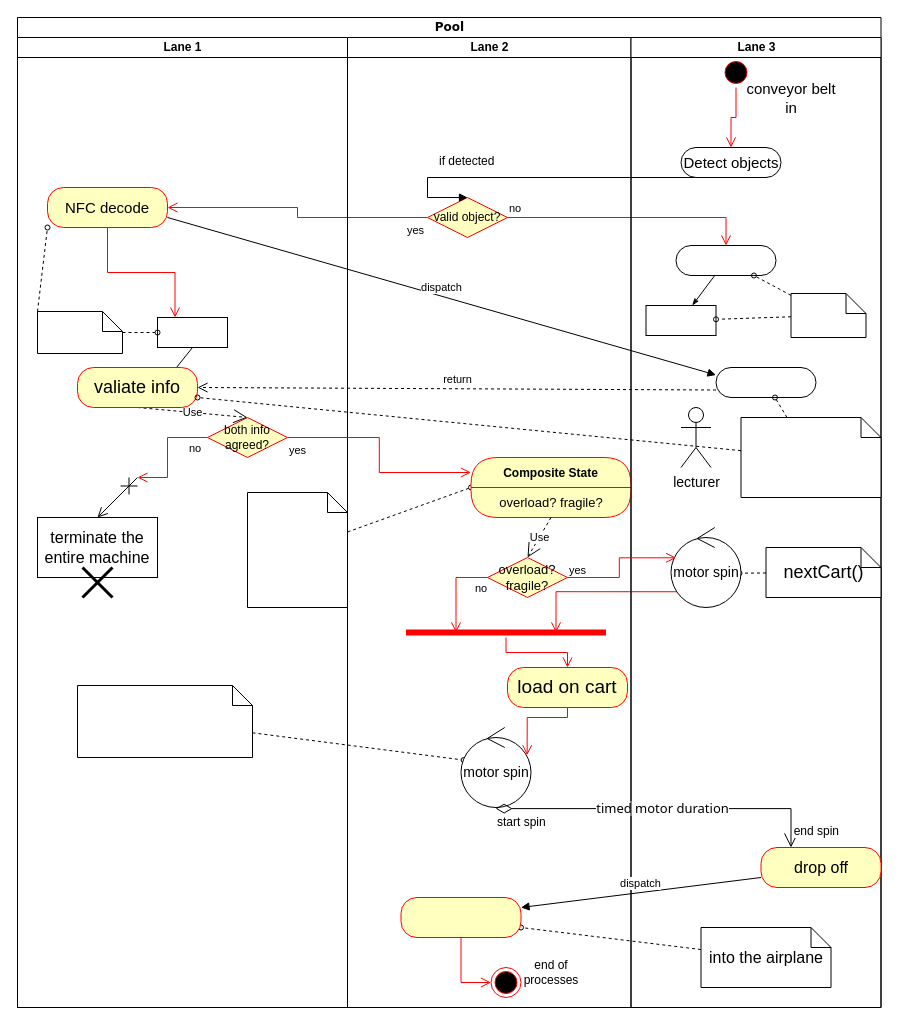
Some shapes in this 899 by 1025 pixel diagram are drawn without their labels. Each missing label, with the centre of its shape:
"classified Object" belongs at point 192,332.
"conveyor belt out" belongs at point 460,917.
"decide whether we need to use a new cart" belongs at point 297,550.
"ensuring the lecturer has not stuck a pencil in our system; fail safe" belongs at point 810,457.
"fault detection" belongs at point 828,315.
"Object disposed" belongs at point 680,320.
"push off" belongs at point 725,260.
"reading the data, eg. weight" belongs at point 79,332.
"receiving info from another group" belongs at point 765,382.
"simulates long range transfer" belongs at point 164,721.
